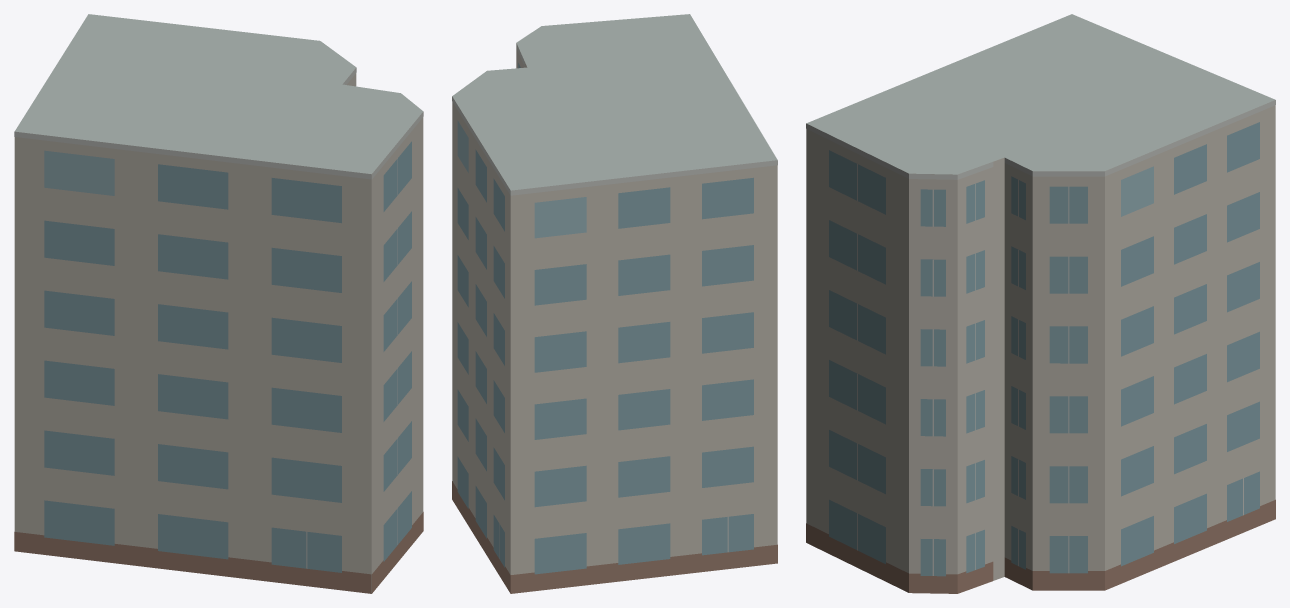
File: survey-upis-32912771.glb
3 views of the same model, side by side, from view 1: azimuth 30°, elevation 25°; view 2: azimuth 150°, elevation 25°; view 3: azimuth 270°, elevation 25° (orthographic). The views are drawn at different scales.
Parts seen in each view (by area): view 1: survey-upis-32912771.tmp; view 2: survey-upis-32912771.tmp; view 3: survey-upis-32912771.tmp.
Part boxes in pixels (left/top/right/bottom): survey-upis-32912771.tmp: left=14, top=14, right=423, bottom=593; survey-upis-32912771.tmp: left=452, top=14, right=777, bottom=593; survey-upis-32912771.tmp: left=806, top=14, right=1275, bottom=593.
Size of the model in its own units: 15.77 by 19.2 by 19.49.
